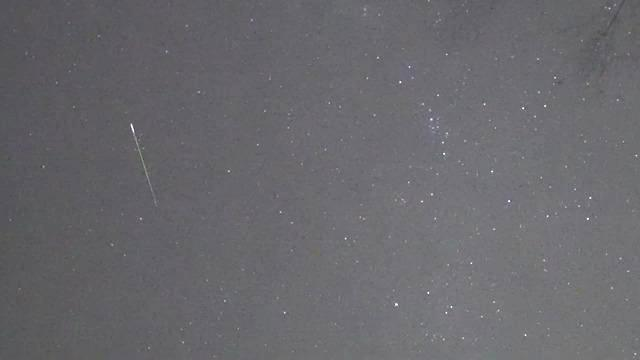meteorite: (118, 115, 163, 216)
